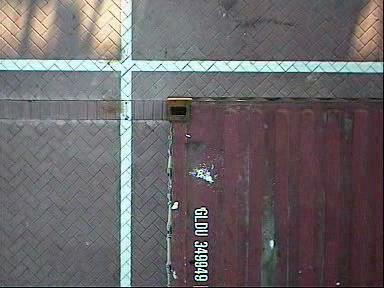groundmarker_2: (163, 137, 229, 225)
